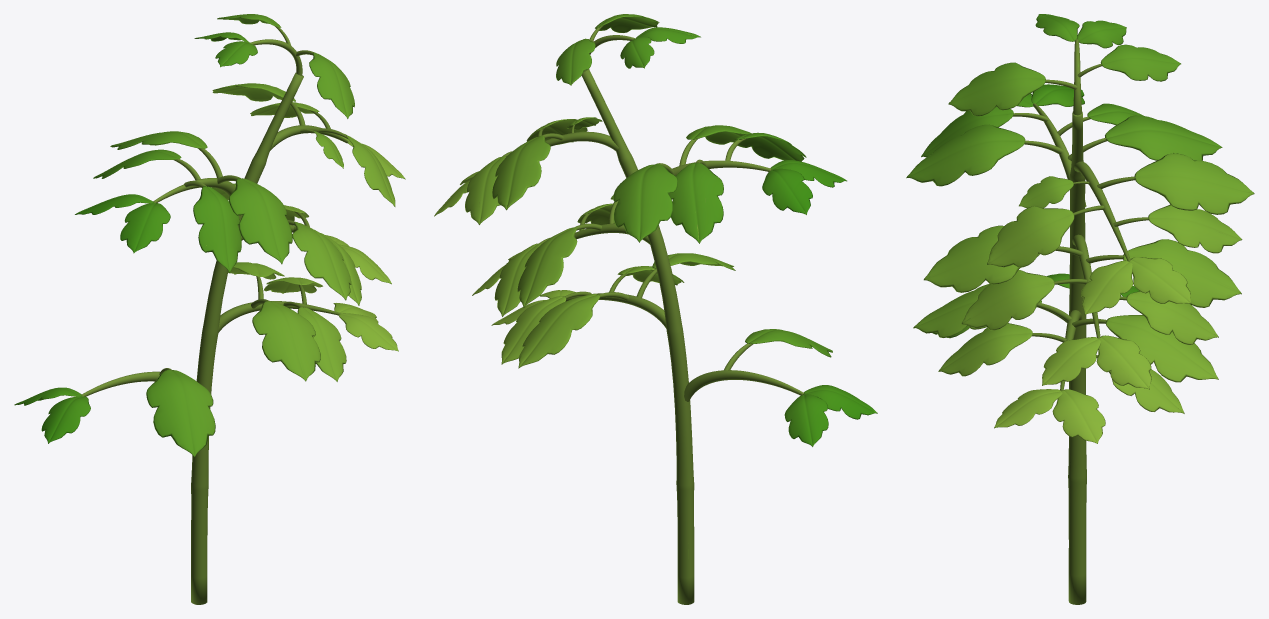
File: LV3_방울토마토_지지대.obj
The picture shows the model from 3 angles, left to right: view 1: azimuth 30°, elevation 25°; view 2: azimuth 150°, elevation 25°; view 3: azimuth 270°, elevation 25°; orthographic projection. The views are drawn at different scales.
Visible parts, largest first — view 1: LV3_Tomato; view 2: LV3_Tomato; view 3: LV3_Tomato.
Part boxes in pixels (bbox=[...]): LV3_Tomato: bbox=[14, 14, 405, 604]; LV3_Tomato: bbox=[434, 14, 877, 604]; LV3_Tomato: bbox=[906, 14, 1254, 604].
Bounding box in the file's own units: 6.4 × 8.89 × 4.71.
